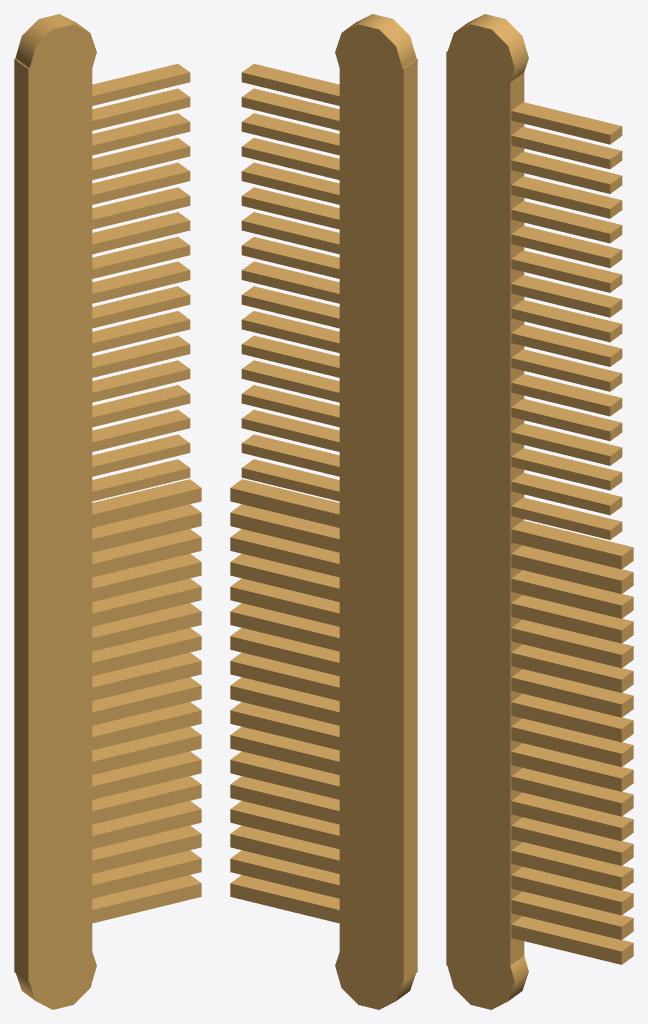
File: comb.glb
The picture shows the model from 3 angles, left to right: view 1: azimuth 30°, elevation 25°; view 2: azimuth 150°, elevation 25°; view 3: azimuth 330°, elevation 25°; orthographic projection.
Visible parts, largest first — view 1: comb; view 2: comb; view 3: comb.
Boxes of the visible parts, x1,y1,x2,y2 form: comb: (14, 14, 201, 1009); comb: (230, 14, 417, 1009); comb: (446, 14, 633, 1009).
Size of the model in its own units: 0.03 by 0.161 by 0.0042.
